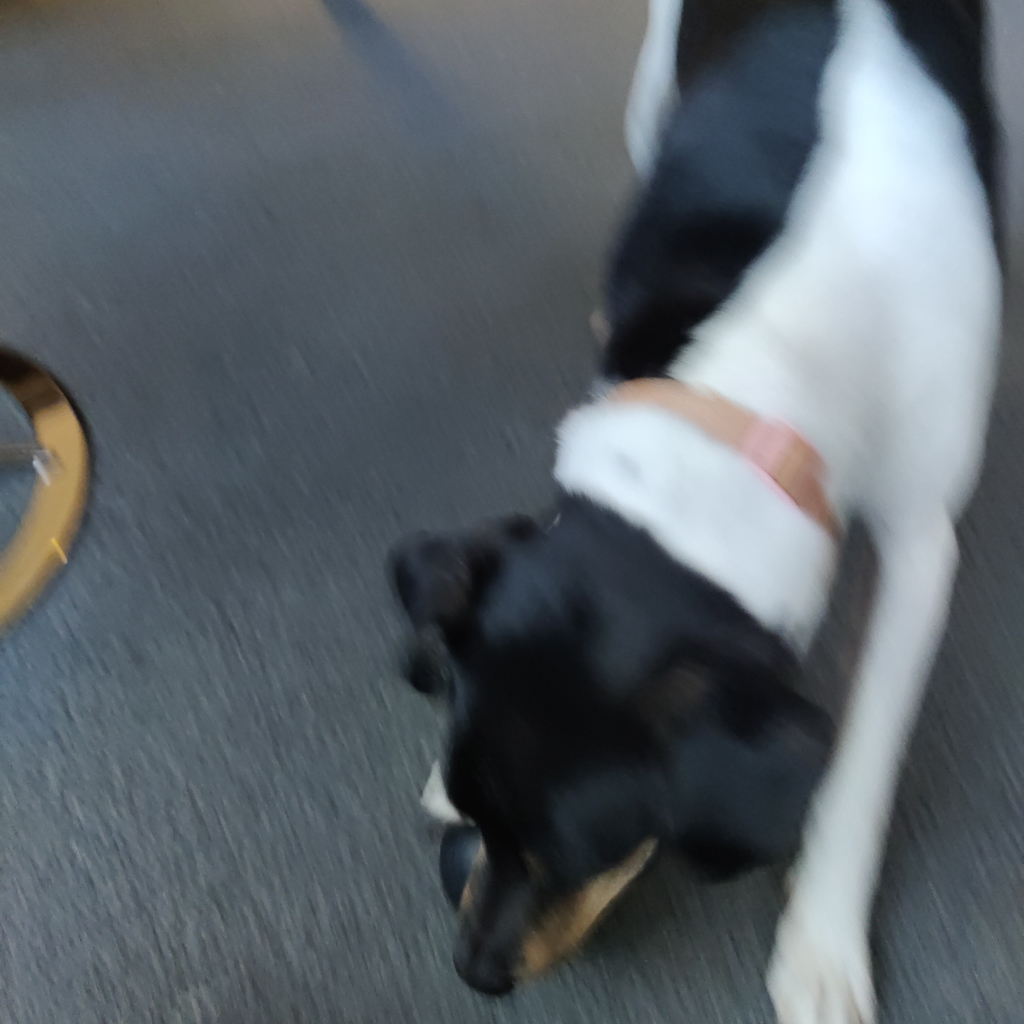Dog: (365, 0, 1015, 1024)
